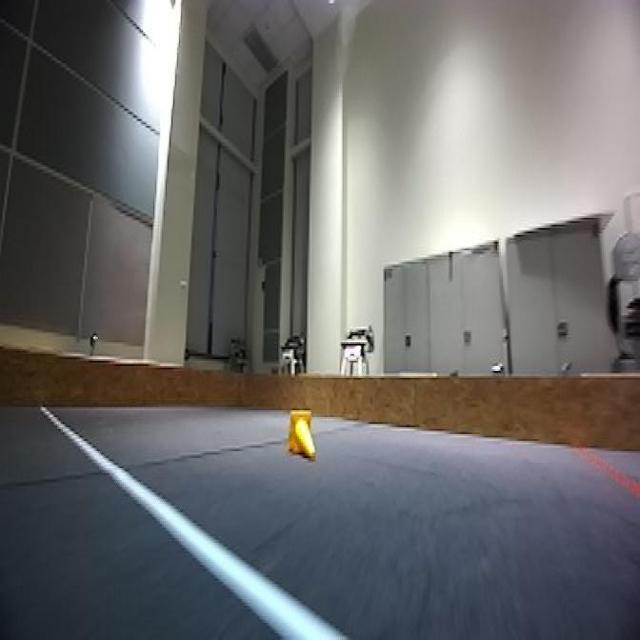frc_cone: (287, 410, 315, 458)
